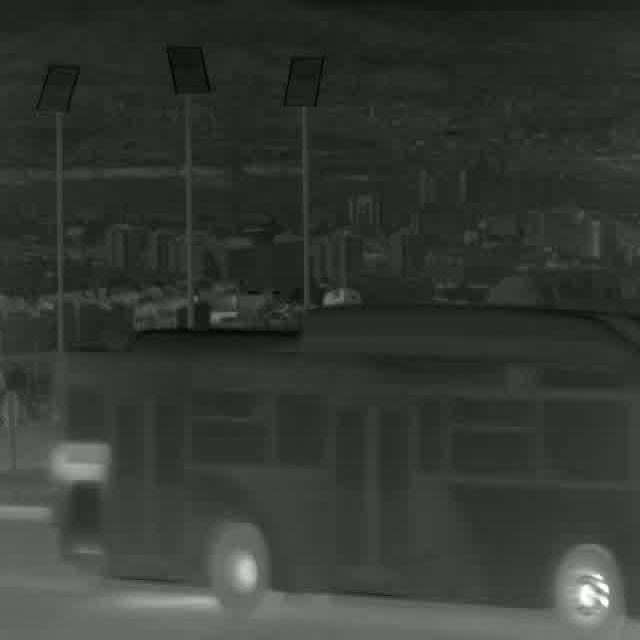Bus: (54, 307, 640, 625)
